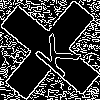K: (25, 25, 82, 80)
